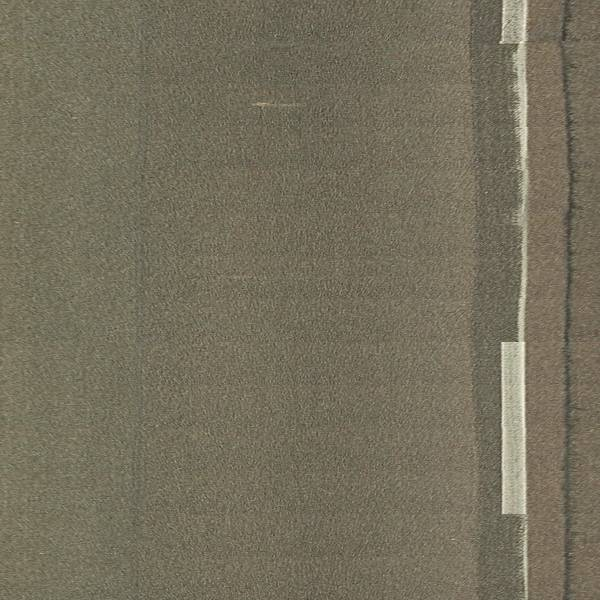road_damage: (549, 1, 585, 600)
